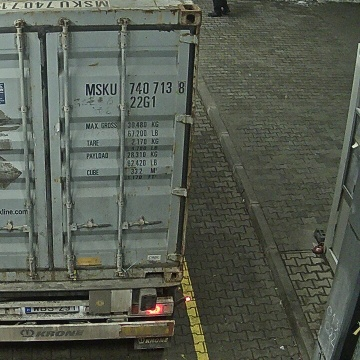serial_id: (86, 82, 185, 95)
